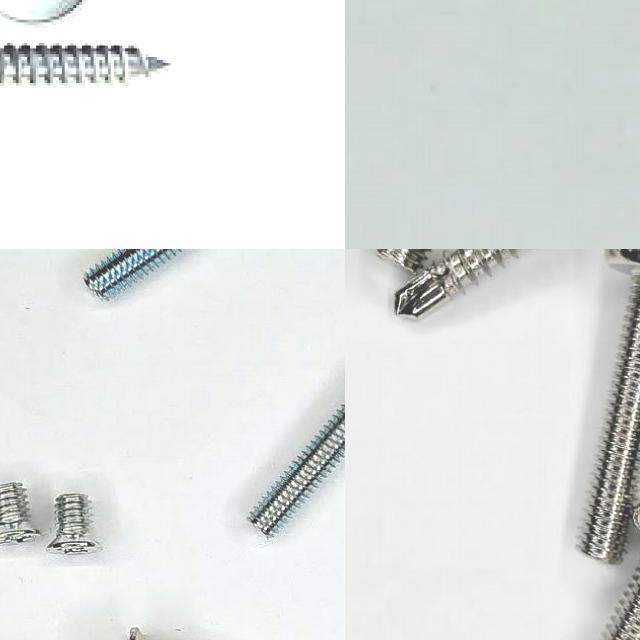Screw: (580, 249, 640, 564), (249, 403, 345, 535), (395, 249, 519, 318), (0, 45, 171, 89), (84, 249, 182, 298), (47, 493, 96, 554), (0, 482, 39, 543), (376, 249, 429, 271)
